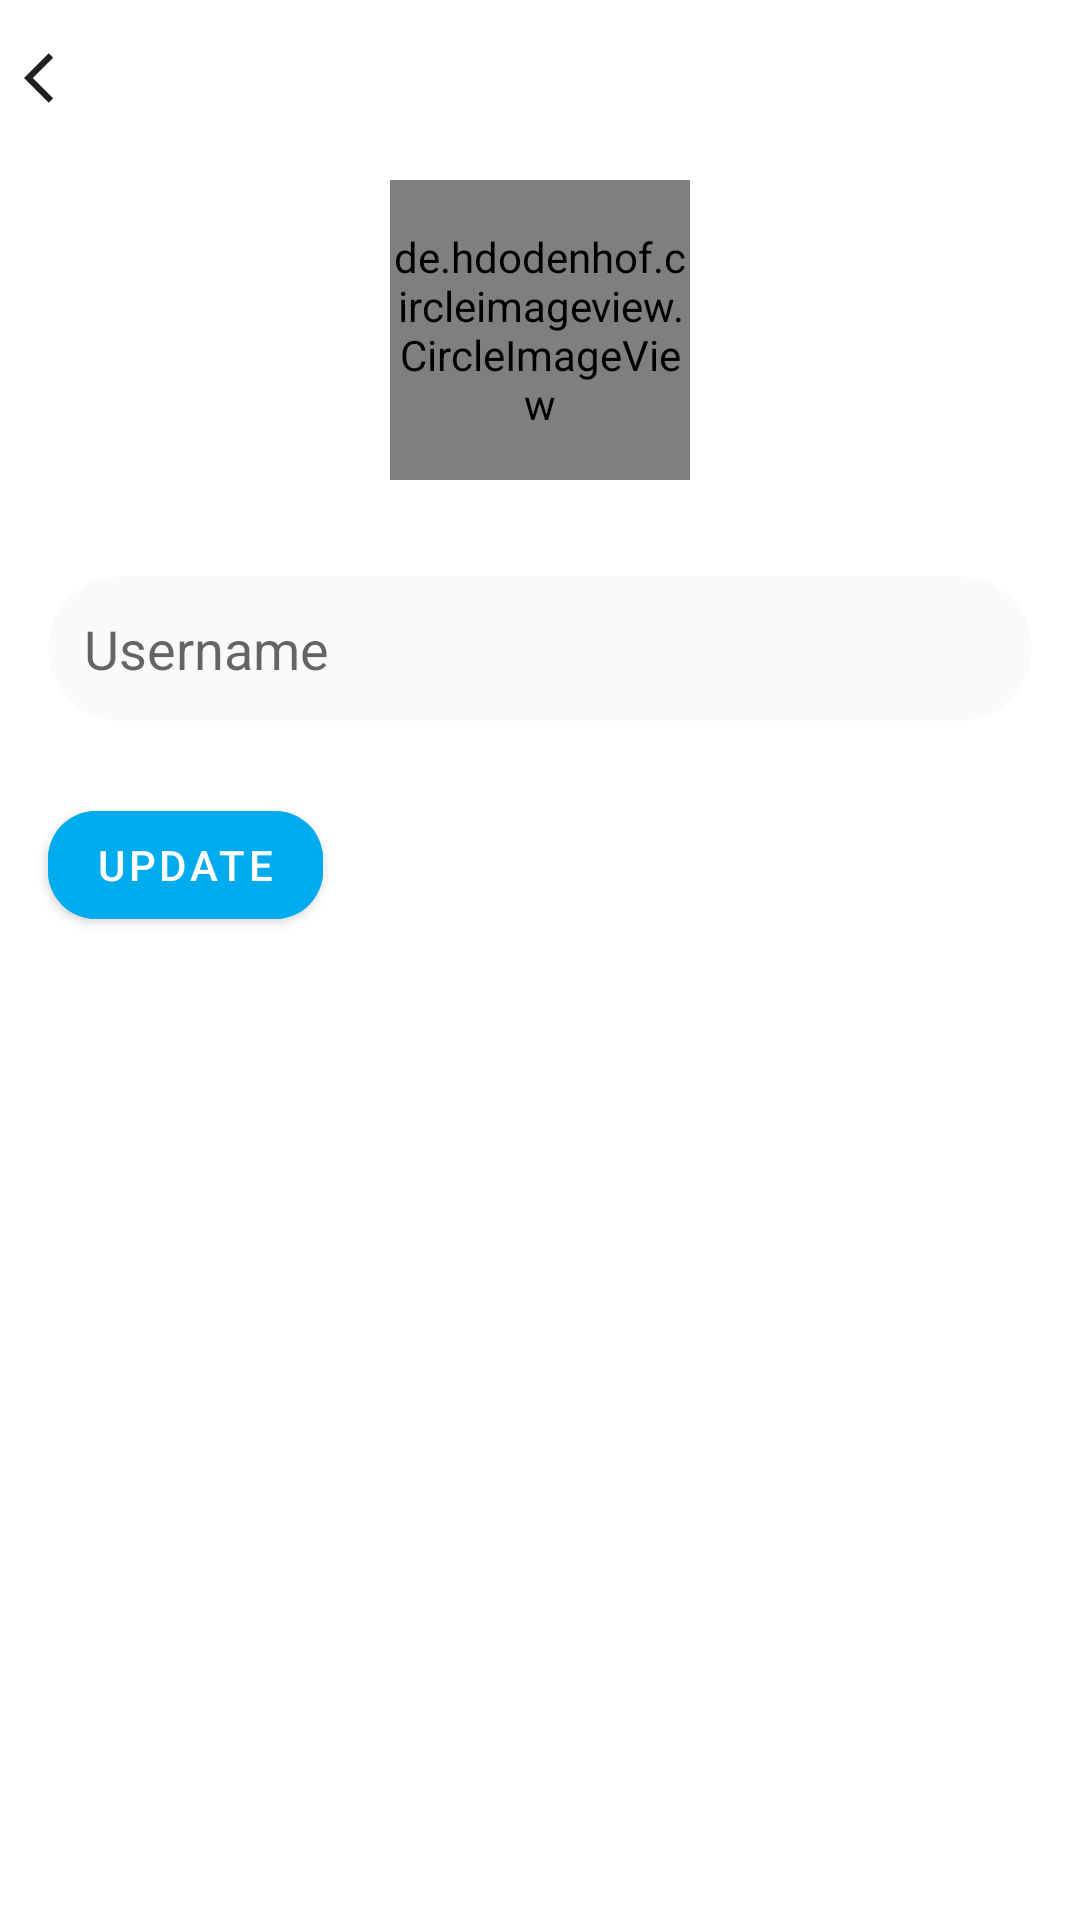

Screen size 1080px x 1920px. Icon name, then its box in pixels as (x1, y1, x2, y2):
back: (24, 53, 53, 103)
